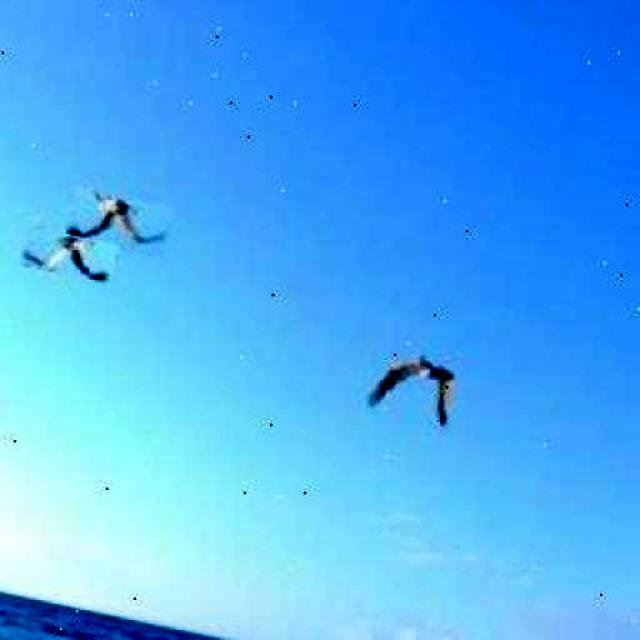airplane: (362, 345, 459, 429), (64, 186, 172, 258), (19, 225, 118, 282)
